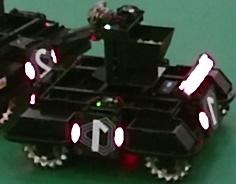armor_1: (71, 122, 125, 148)
armor_2: (24, 49, 58, 81)
back_1: (203, 89, 221, 130)
left_1: (79, 117, 115, 155)
light: (179, 53, 215, 95)
right_2: (32, 48, 55, 81)
